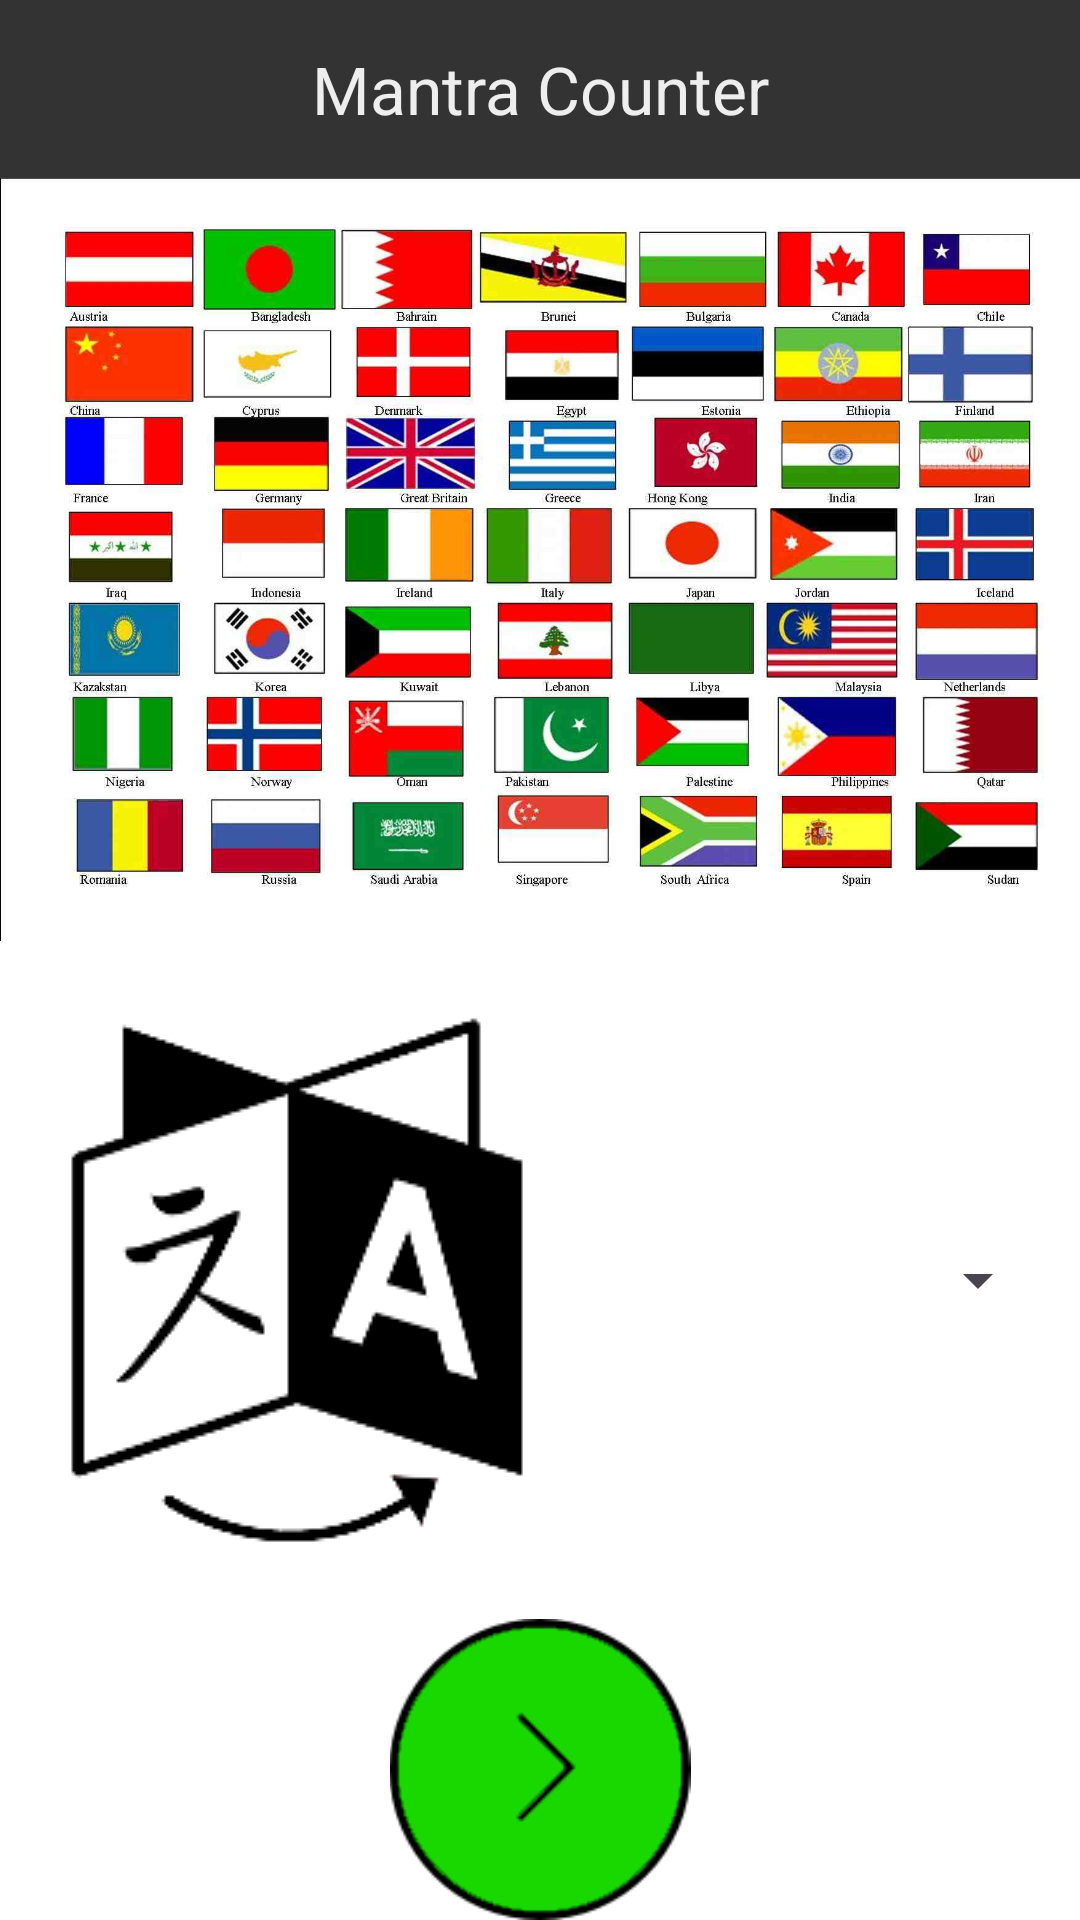

Where to tap for icons on this 1080x1920 app screen, as [x,y]:
arrow: [540,1769]
